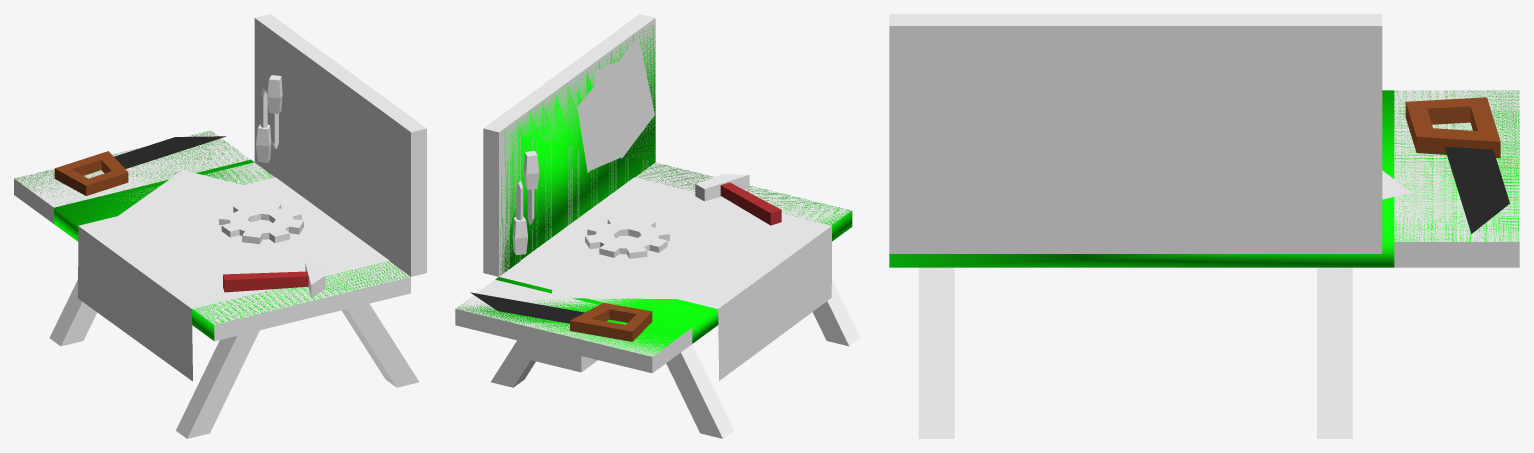
The model's file is CraftTable_Mesh.fbx.
3 views of the same model, side by side, from view 1: azimuth 30°, elevation 25°; view 2: azimuth 150°, elevation 25°; view 3: azimuth 270°, elevation 25° (orthographic). The views are drawn at different scales.
Visible parts, largest first — view 1: CraftTable, CraftTable_Cloth, CraftTable_Outline, CraftTable_Chainsaw, CraftTable_Gear, CraftTable_Hammer, CraftTable_Screws; view 2: CraftTable, CraftTable_Cloth, CraftTable_Outline, CraftTable_Chainsaw, CraftTable_Gear, CraftTable_Hammer, CraftTable_Screws; view 3: CraftTable, CraftTable_Outline, CraftTable_Chainsaw.
Boxes of the visible parts, x1,y1,x2,y2 form: CraftTable: (14,14,426,438); CraftTable_Cloth: (78,177,389,381); CraftTable_Outline: (14,131,410,340); CraftTable_Chainsaw: (54,136,226,195); CraftTable_Gear: (219,201,303,244); CraftTable_Hammer: (223,261,325,298); CraftTable_Screws: (256,75,282,162); CraftTable: (455,14,860,438); CraftTable_Cloth: (521,177,831,380); CraftTable_Outline: (457,25,852,356); CraftTable_Chainsaw: (470,292,652,341); CraftTable_Gear: (585,217,669,258); CraftTable_Hammer: (695,174,781,225); CraftTable_Screws: (512,151,539,255); CraftTable: (889,14,1519,438); CraftTable_Outline: (889,90,1519,267); CraftTable_Chainsaw: (1405,97,1509,233).
Bounding box in the file's own units: 236 × 253 × 352.
